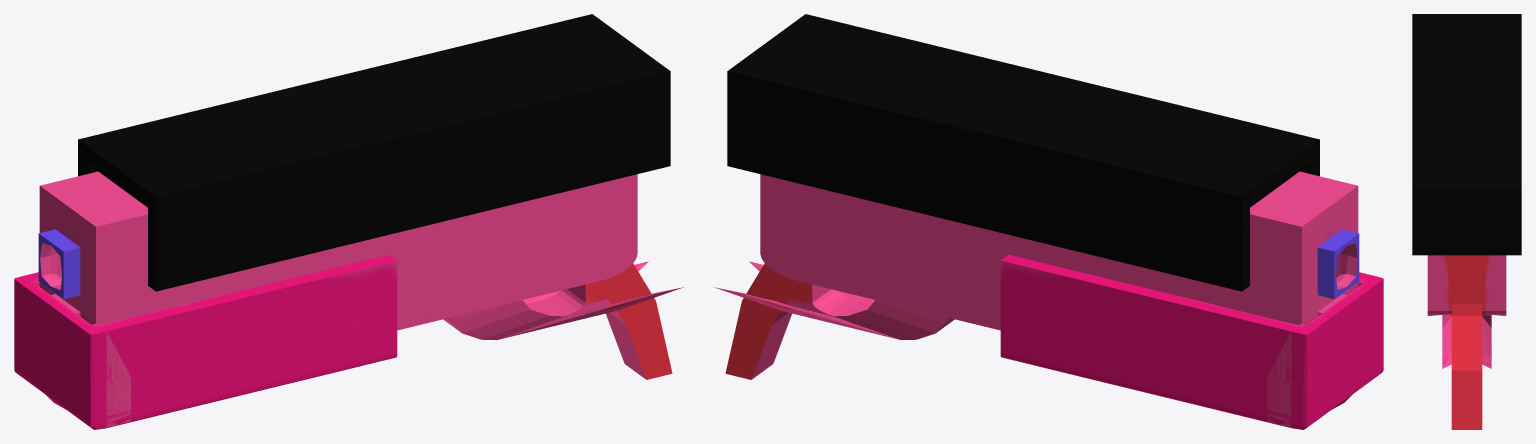
Rendered from gun.fbx.
The picture shows the model from 3 angles, left to right: view 1: azimuth 30°, elevation 25°; view 2: azimuth 150°, elevation 25°; view 3: azimuth 270°, elevation 25°; orthographic projection. The views are drawn at different scales.
Visible parts, largest first — view 1: Cube, Cube.001; view 2: Cube, Cube.001; view 3: Cube.001, Cube.
Part boxes in pixels (box(x1,y1,x2,y2)): Cube: box(14, 171, 683, 429); Cube.001: box(78, 14, 670, 291); Cube: box(714, 171, 1383, 429); Cube.001: box(727, 14, 1319, 291); Cube.001: box(1412, 14, 1521, 255); Cube: box(1427, 255, 1506, 429).
Bounding box in the file's own units: 1820 × 933 × 400.
Materials: 2 (2 with a texture image).
